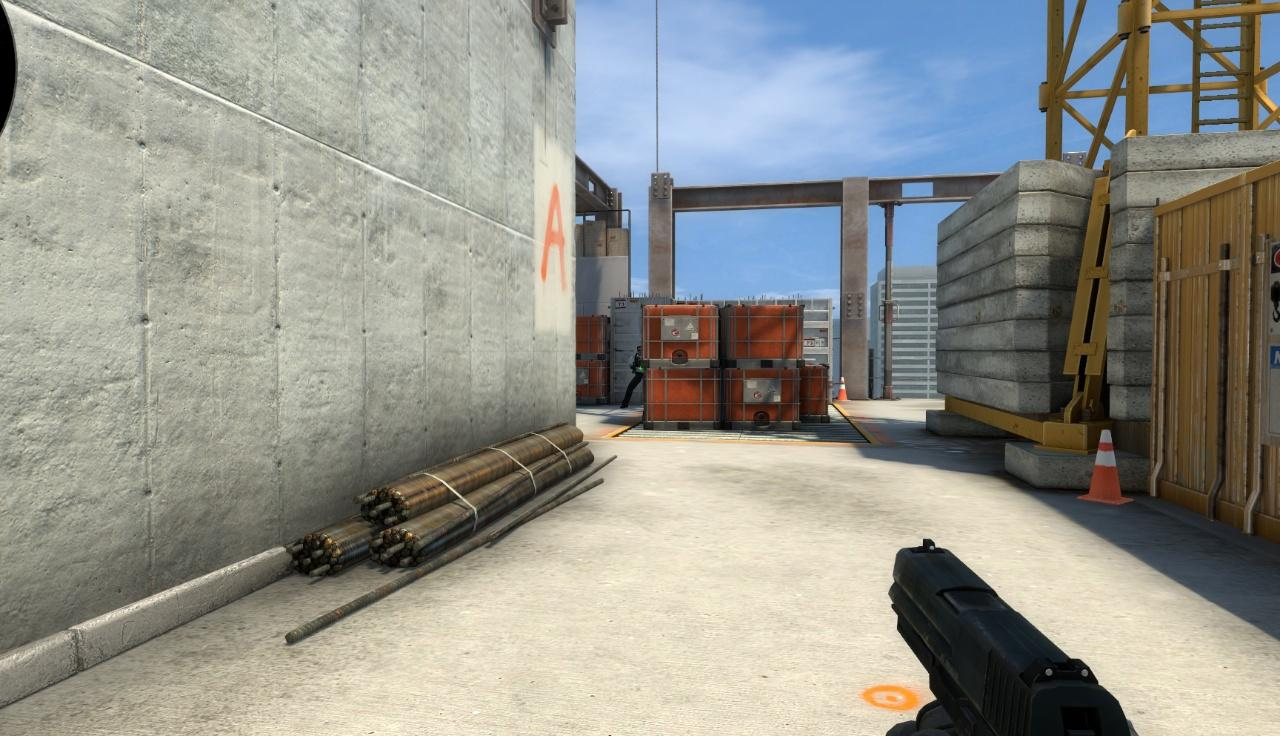pistol: (888, 537, 1147, 736)
tt: (622, 345, 646, 408)
tthead: (636, 346, 644, 356)
